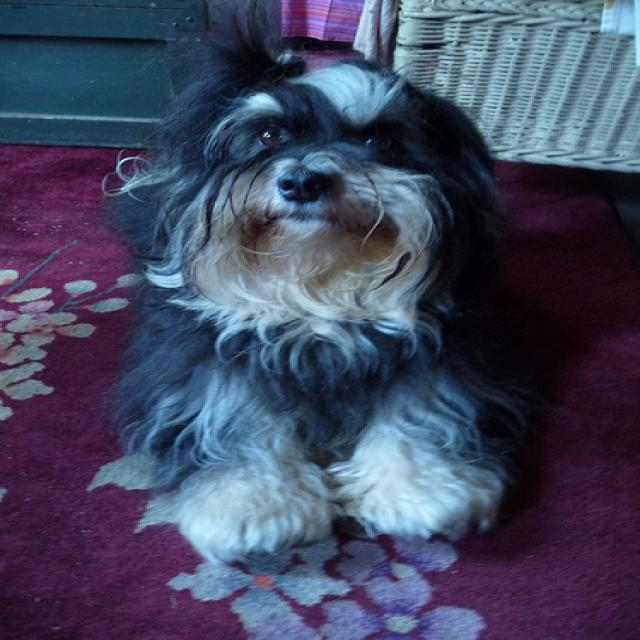dog-havanese: (92, 1, 560, 577)
